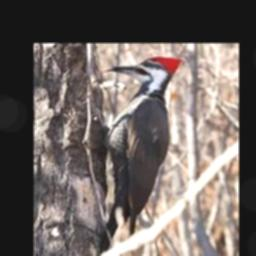Woodpecker: (102, 57, 181, 255)
